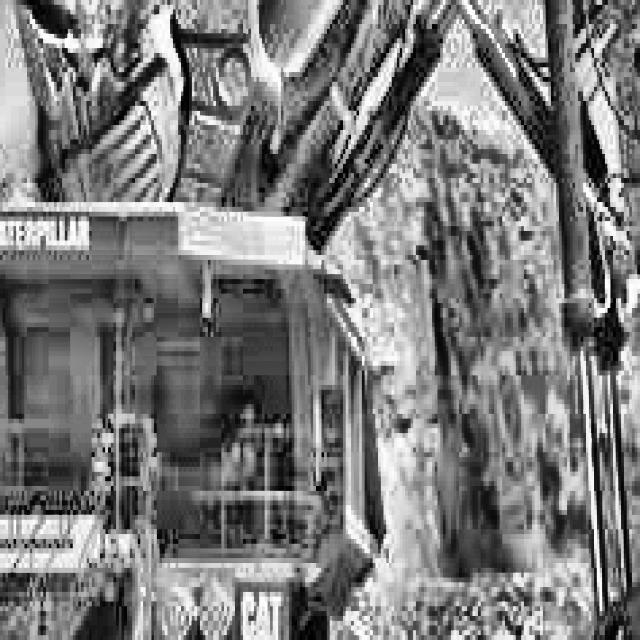dump_truck: (0, 149, 402, 640)
excavator: (0, 0, 640, 640)
